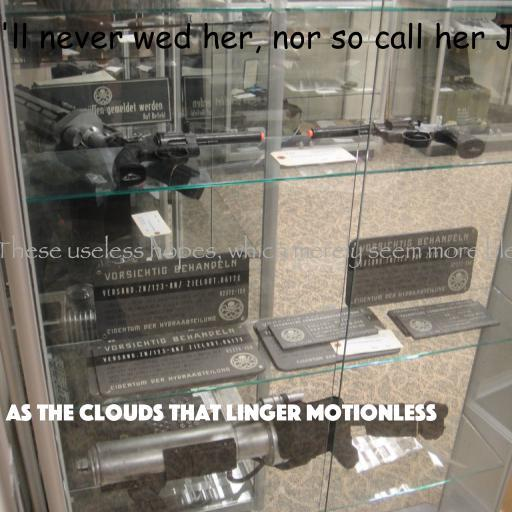Comic Sans MS: (0, 22, 512, 54)
Papyrus: (0, 235, 512, 270)
Phosphate: (5, 404, 437, 421)
